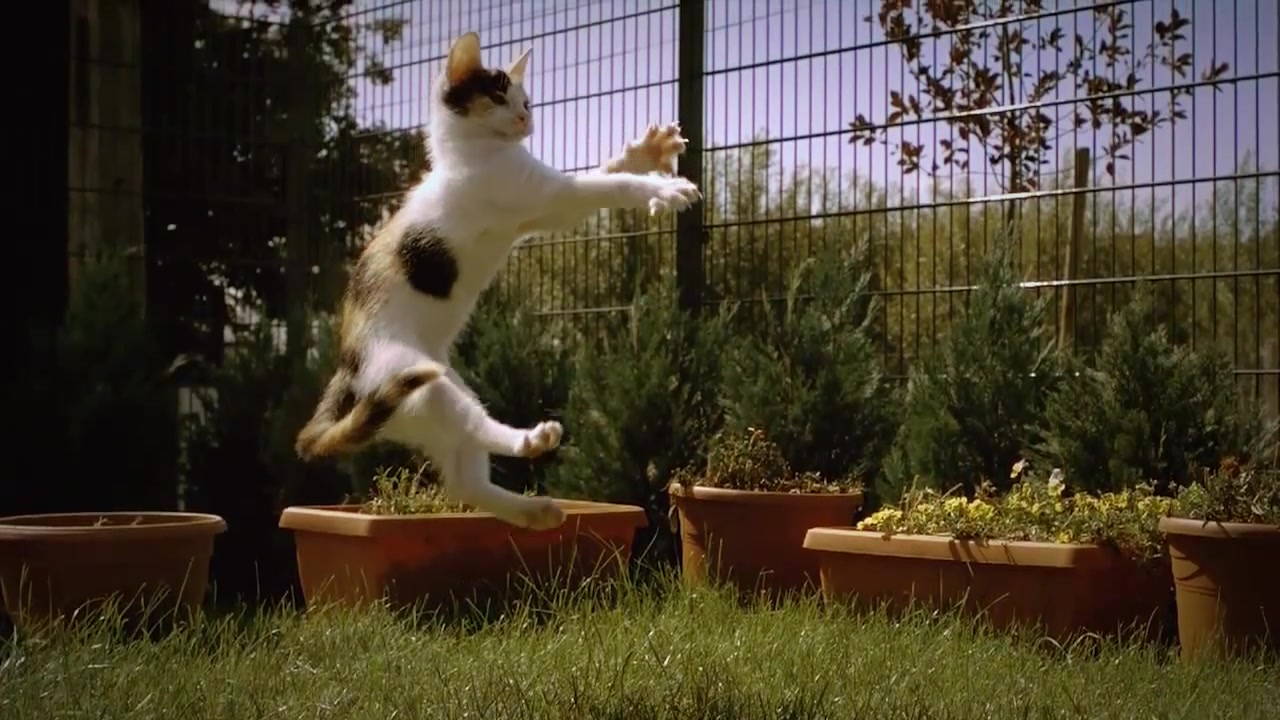cat: (294, 29, 707, 531)
